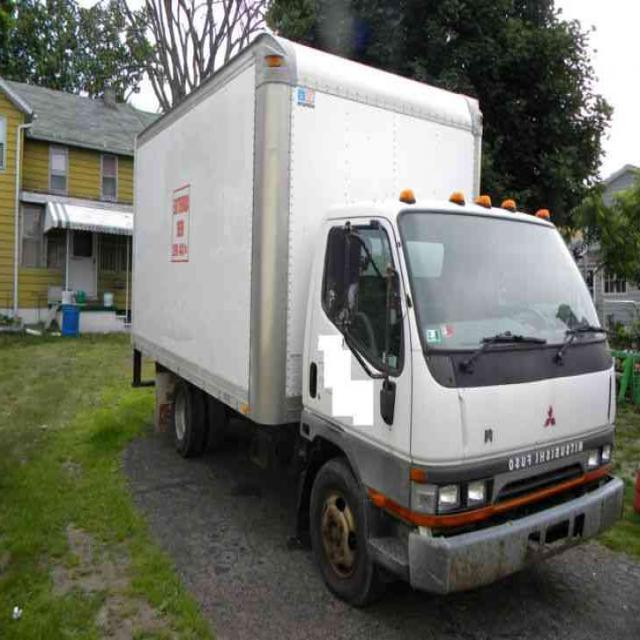truck: (131, 34, 627, 594)
